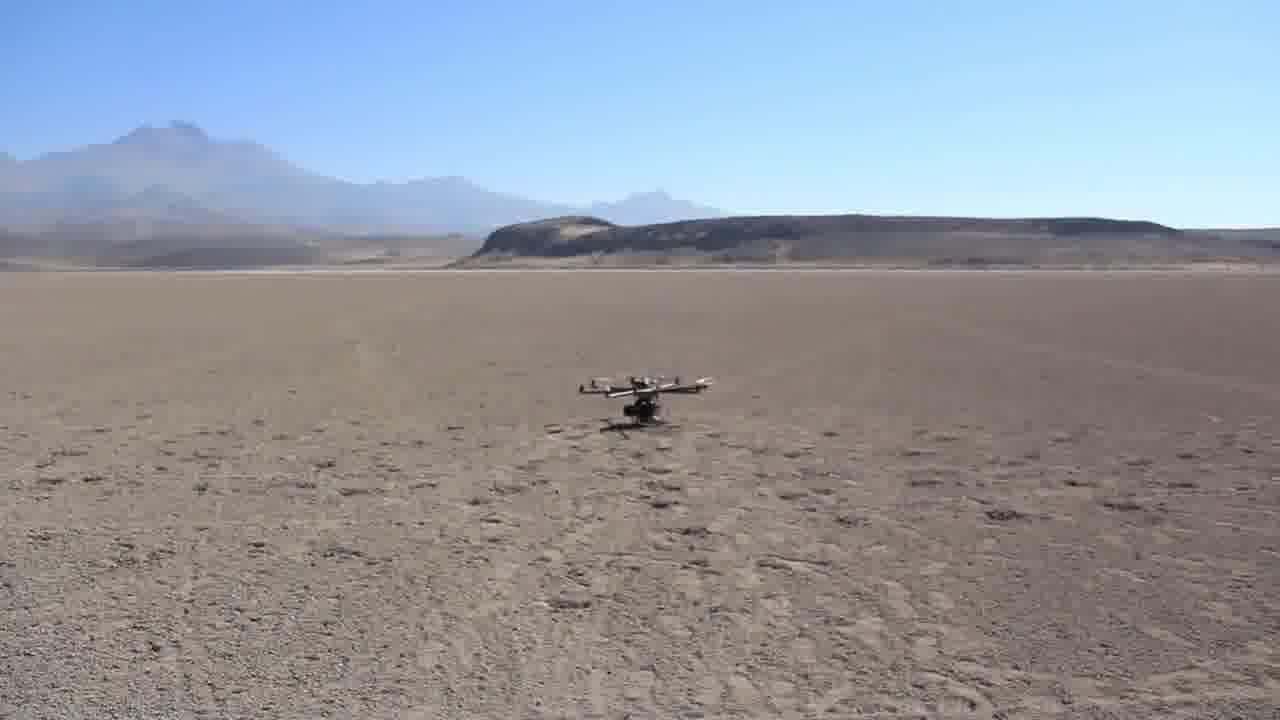drone: (581, 362, 713, 422)
